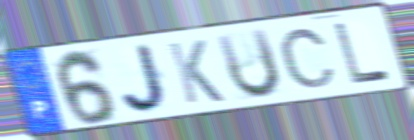6: (52, 47, 119, 127)
C: (277, 26, 339, 91)
J: (118, 41, 172, 116)
K: (165, 38, 228, 106)
L: (331, 20, 394, 85)
U: (212, 25, 284, 102)
